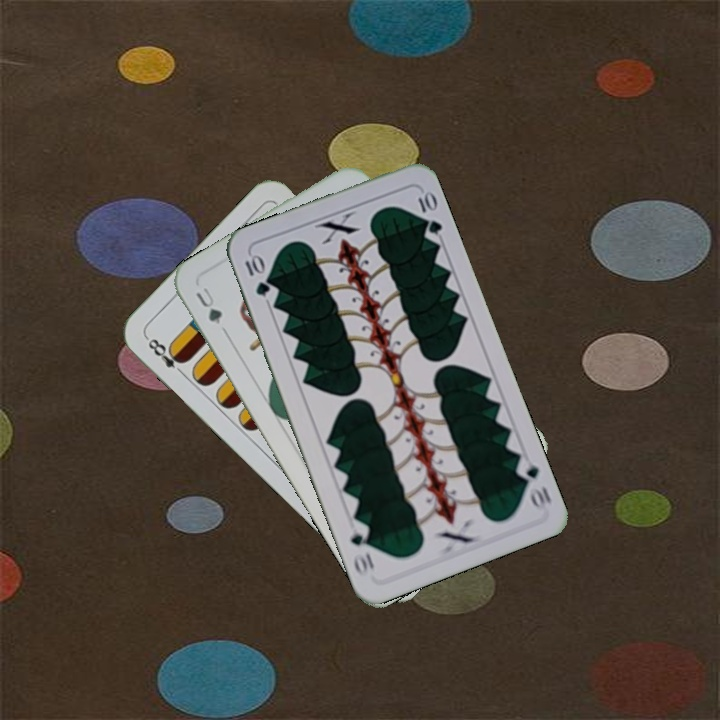E8: (142, 333, 189, 379)
G10: (512, 454, 554, 511), (241, 250, 273, 299)
GU: (191, 283, 225, 327)
